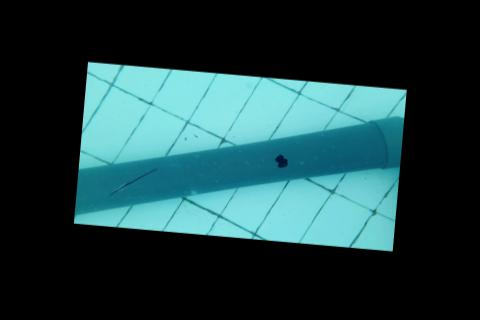kebocoran: (272, 153, 289, 168)
keretakan: (108, 162, 158, 199)
